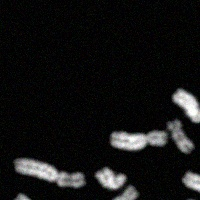chromosome: (14, 158, 85, 188), (109, 130, 166, 150), (172, 89, 200, 123), (167, 120, 194, 154), (96, 166, 126, 189), (181, 171, 200, 197), (14, 193, 76, 200), (111, 185, 138, 200), (184, 199, 200, 200)
